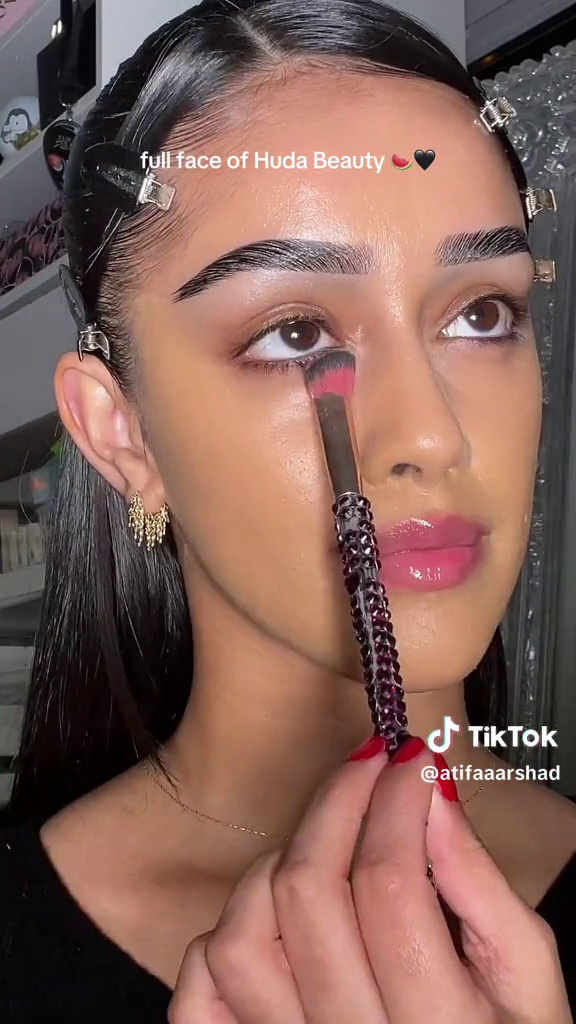train' :'yolo_data/train/images',: (284, 343, 415, 771)
